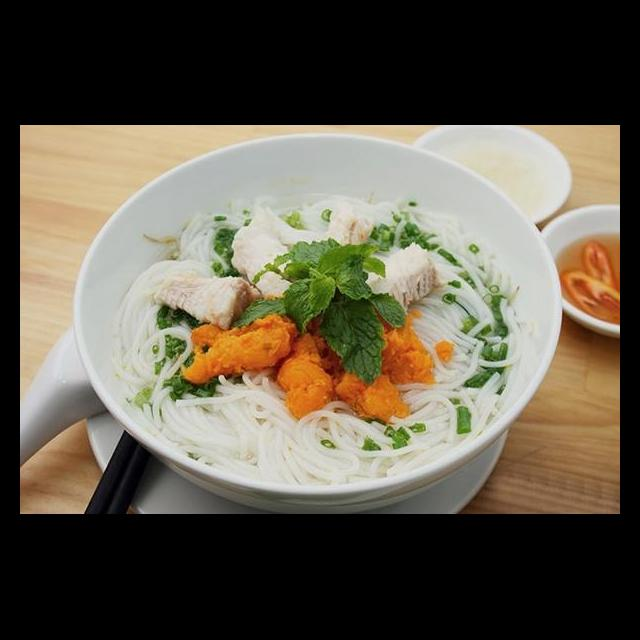bun: (109, 372, 517, 497), (102, 250, 224, 472), (404, 200, 527, 400), (145, 204, 247, 278)
bun ca: (56, 148, 564, 483)
ca: (225, 200, 312, 308), (341, 238, 451, 320), (151, 270, 268, 332), (319, 200, 378, 264)
tom: (177, 288, 308, 388), (317, 322, 413, 426), (365, 302, 443, 388), (273, 326, 340, 422)
